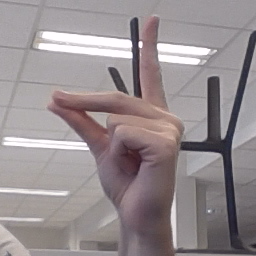K: (44, 13, 180, 230)
